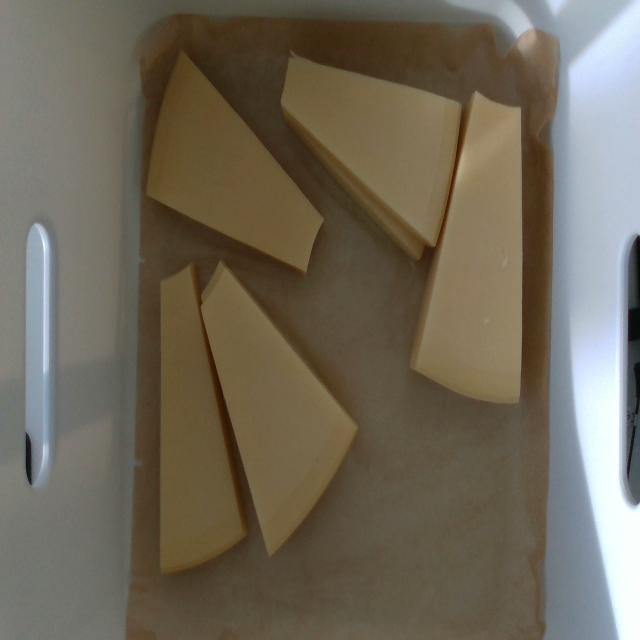cheese: (202, 265, 356, 554), (146, 54, 322, 272), (411, 92, 522, 403), (282, 57, 461, 246), (161, 270, 244, 569)
